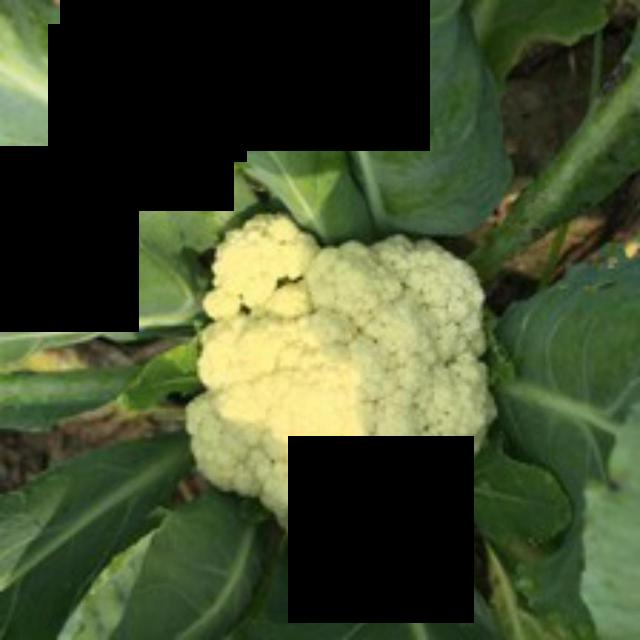cauliflower: (176, 183, 516, 574)
